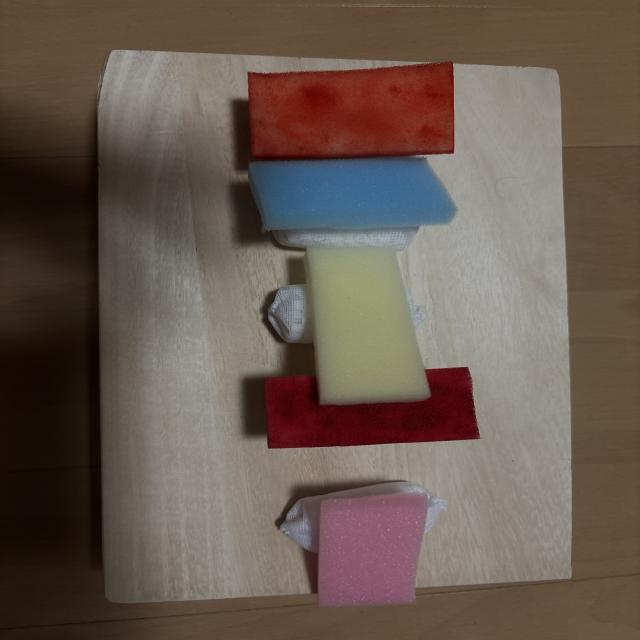NG: (268, 247, 429, 404), (280, 482, 446, 607), (249, 157, 457, 251)
maguro: (265, 368, 480, 448)
salmon: (248, 62, 454, 159)
